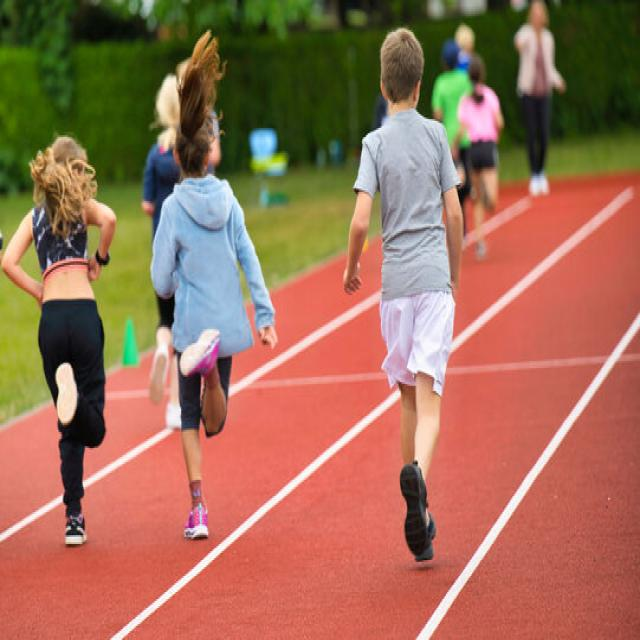Person: (150, 30, 279, 538), (343, 27, 463, 561), (0, 136, 116, 547)
